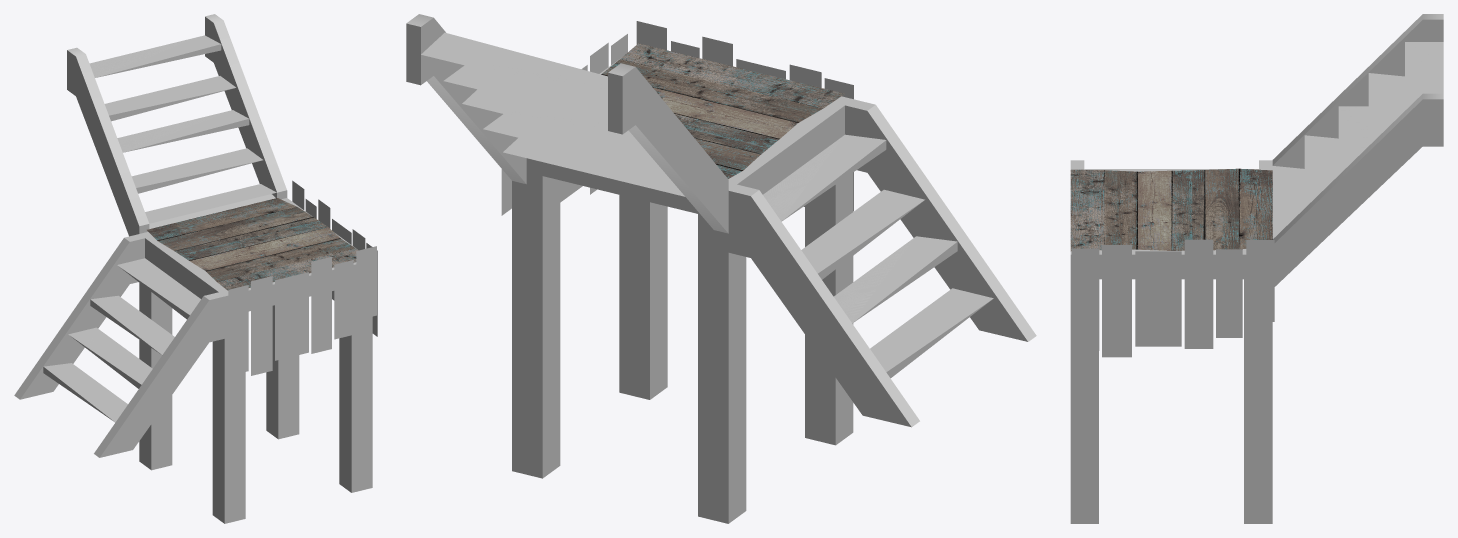
File: WoodStairs4_LOD1.fbx
The picture shows the model from 3 angles, left to right: view 1: azimuth 30°, elevation 25°; view 2: azimuth 150°, elevation 25°; view 3: azimuth 270°, elevation 25°; orthographic projection. The views are drawn at different scales.
Parts seen in each view (by area): view 1: polySurface3024; view 2: polySurface3024; view 3: polySurface3024.
Part boxes in pixels (box(x1,y1,x2,y2)): polySurface3024: box(14, 14, 377, 523); polySurface3024: box(406, 14, 1036, 523); polySurface3024: box(1070, 14, 1443, 523).
Size of the model in its own units: 2.79 by 3.42 by 2.76.
